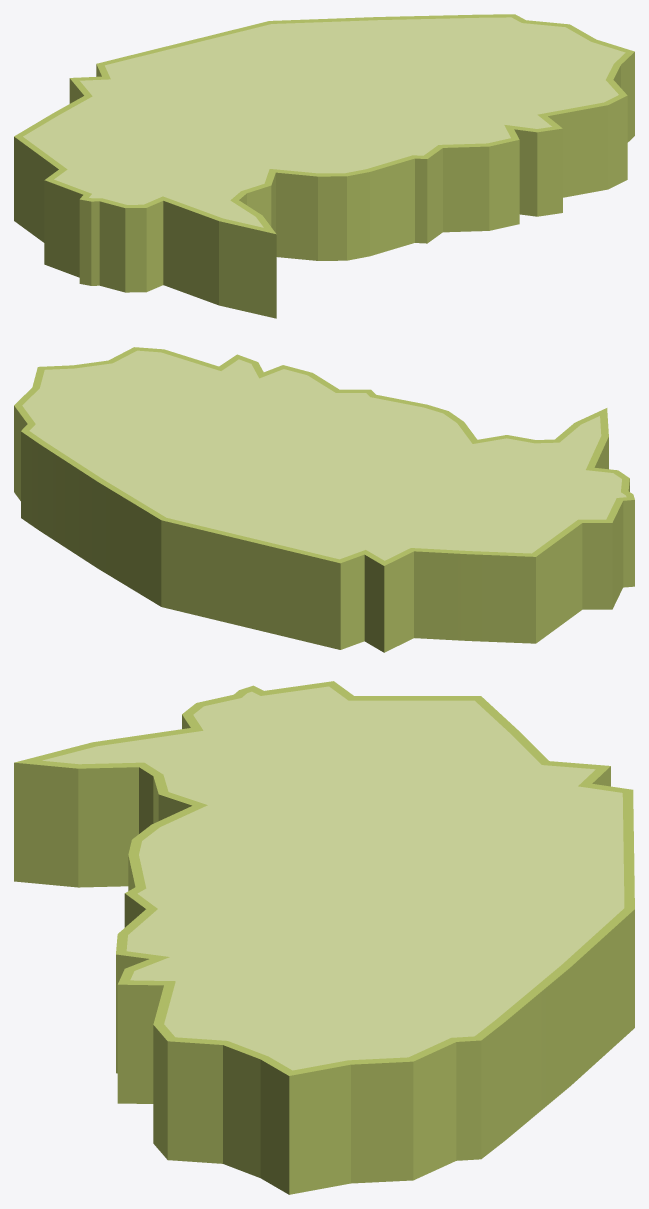
File: Islands1.005.fbx
3 renders of one model, top to bottom at view 1: azimuth 30°, elevation 25°; view 2: azimuth 150°, elevation 25°; view 3: azimuth 270°, elevation 25°, orthographic. The views are drawn at different scales.
Parts seen in each view (by area): view 1: Island1.005; view 2: Island1.005; view 3: Island1.005.
Boxes of the visible parts, x1,y1,x2,y2 form: Island1.005: [14, 14, 634, 318]; Island1.005: [14, 347, 634, 652]; Island1.005: [14, 681, 634, 1194].
Bounding box in the file's own units: 178 × 25 × 118.
